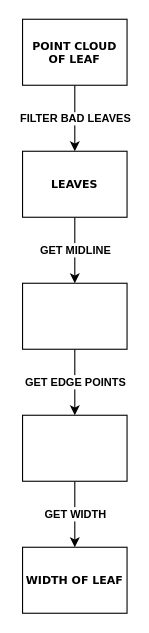
The diagram is 149 pixels wide and 633 high, and some of its shapes have lost their labels. Each missing label, with the centre of its shape:
"EDGE POINTS" belongs at point 74,447.
"MIDLINE" belongs at point 74,315.
